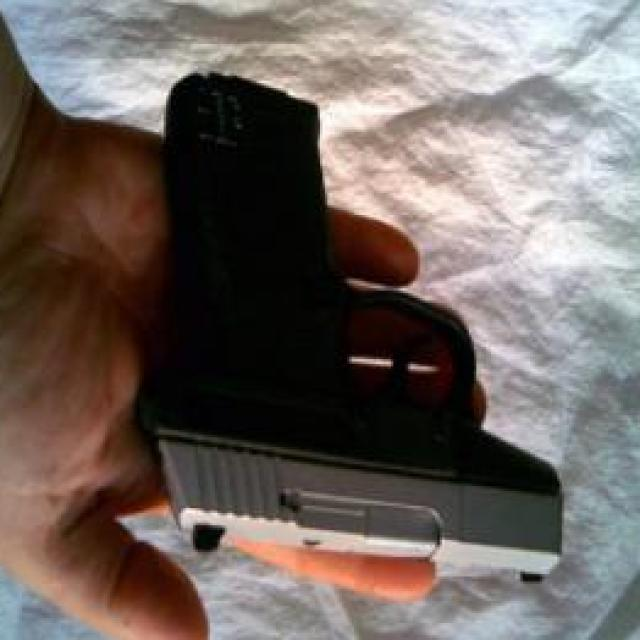pistol: (125, 62, 563, 591)
